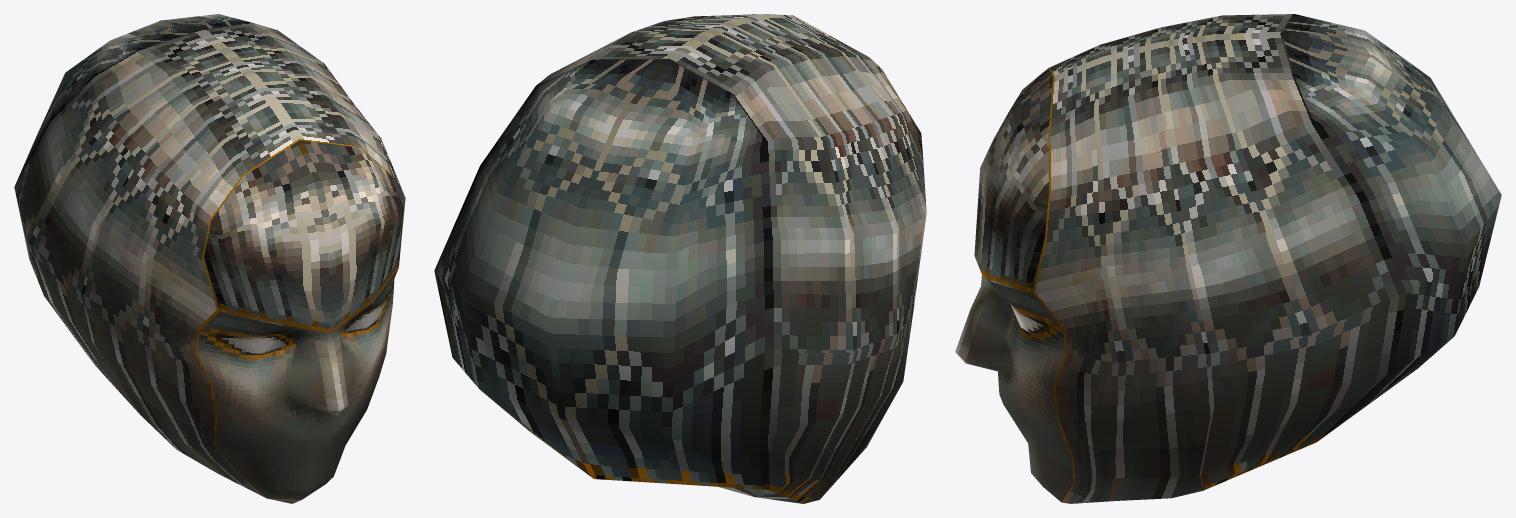
Rendered from m_hair009.glb.
3 views of the same model, side by side, from view 1: azimuth 30°, elevation 25°; view 2: azimuth 150°, elevation 25°; view 3: azimuth 270°, elevation 25° (orthographic). The views are drawn at different scales.
Bounding box in the file's own units: 18.62 × 22.68 × 23.9.
1 material, 1 textured.
